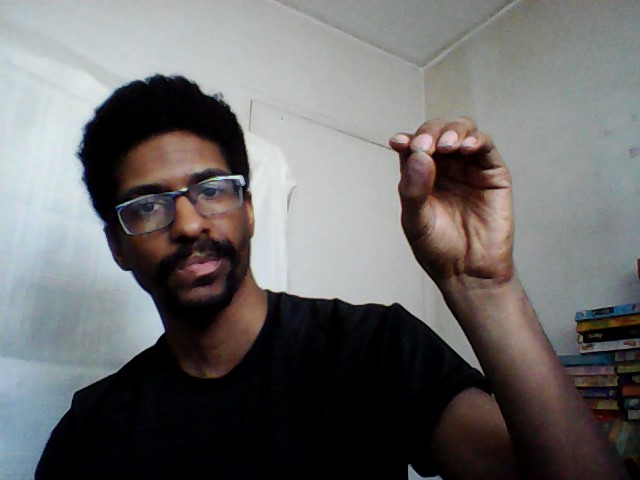o: (383, 115, 520, 283)
